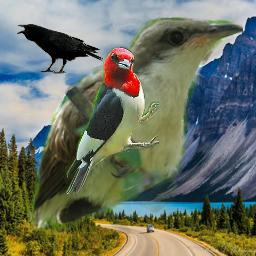Crow: (17, 24, 103, 74)
Cuckoo: (27, 16, 243, 234)
Woodpecker: (62, 46, 159, 194)
